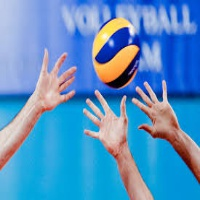ring: (143, 78, 162, 104), (56, 76, 82, 92), (71, 109, 99, 123)
